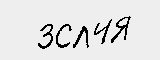З: (36, 22, 52, 51)
Л: (75, 27, 91, 51)
С: (54, 22, 71, 49)
Ч: (94, 18, 114, 45)
Я: (108, 13, 130, 44)
